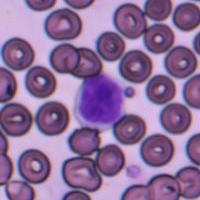L: (74, 71, 125, 129)
